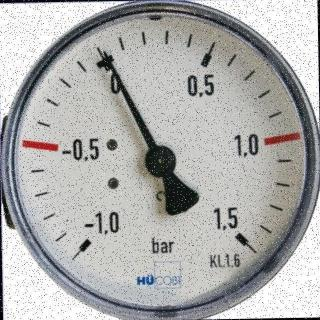gauge: (2, 1, 318, 319), (71, 221, 105, 263), (143, 144, 177, 178), (222, 218, 252, 252), (100, 46, 112, 60)
